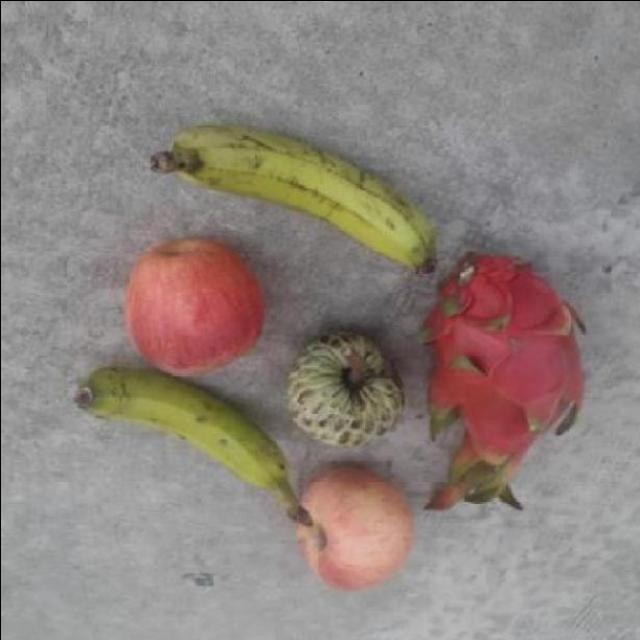apple: (121, 234, 268, 378), (292, 462, 414, 590)
banana: (146, 122, 440, 276), (74, 364, 318, 526)
dragon fruit: (412, 252, 594, 509)
sugar apple: (286, 327, 408, 449)
